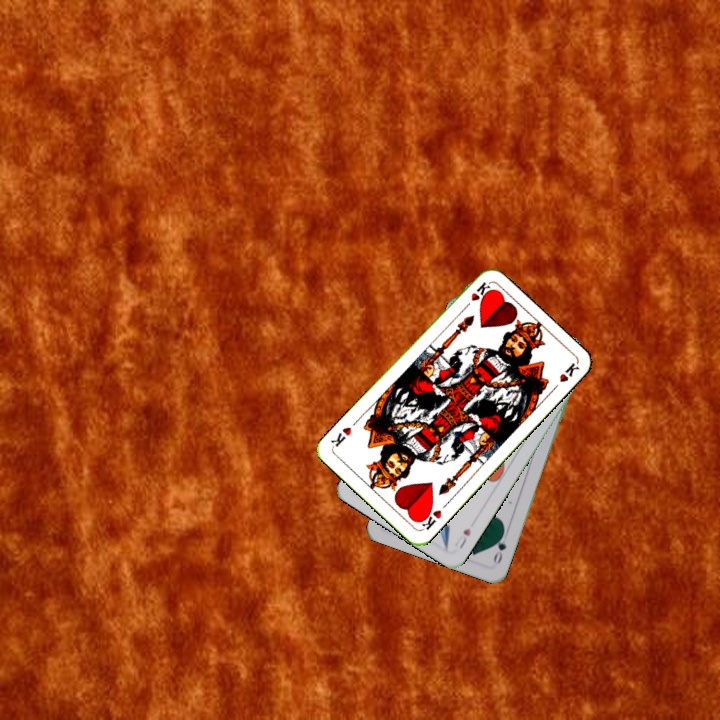GO: (489, 528, 509, 567)
HK: (459, 277, 492, 313), (415, 499, 450, 532)
HU: (451, 524, 473, 551)
